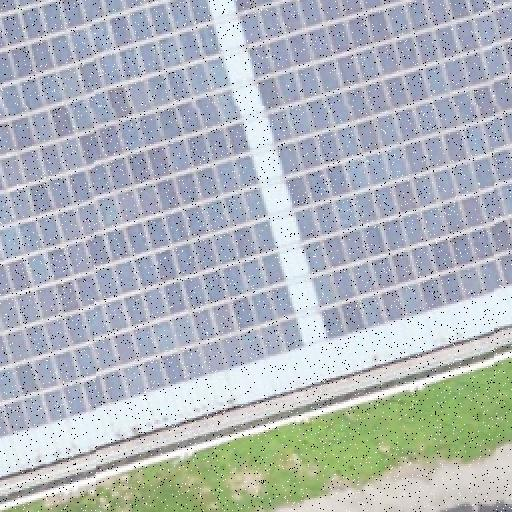solar-panel: (0, 1, 304, 439), (236, 0, 512, 336)
